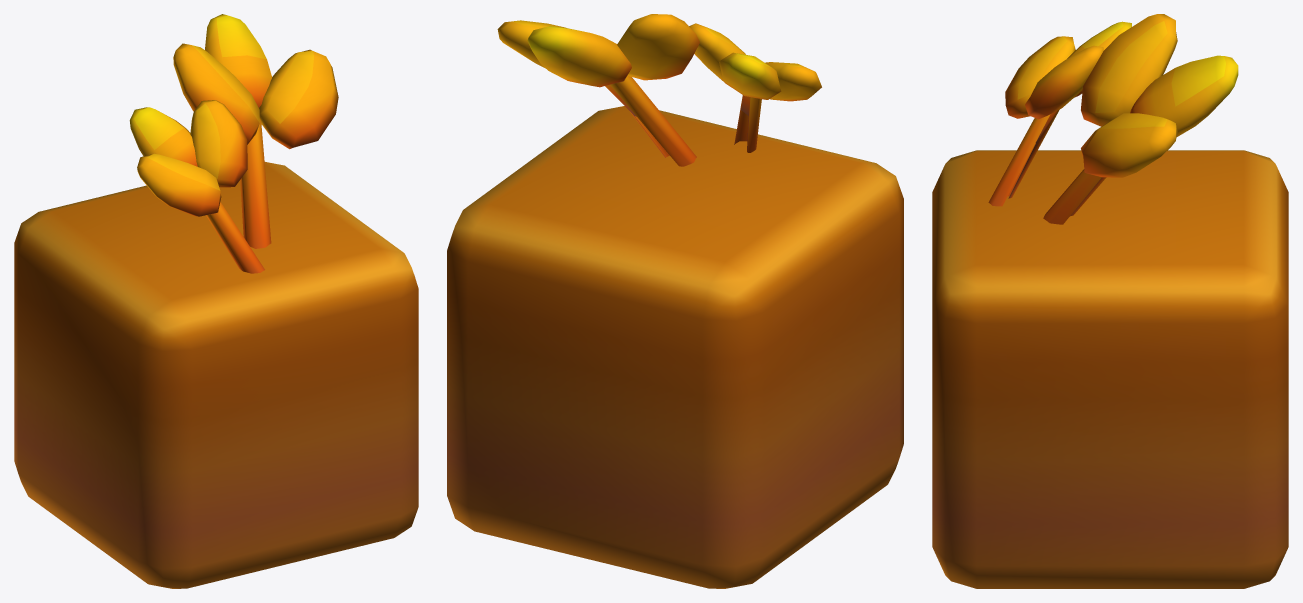
File: wheat_block_1.fbx
The picture shows the model from 3 angles, left to right: view 1: azimuth 30°, elevation 25°; view 2: azimuth 150°, elevation 25°; view 3: azimuth 270°, elevation 25°; orthographic projection. The views are drawn at different scales.
Visible parts, largest first — view 1: block_wheat.001; view 2: block_wheat.001; view 3: block_wheat.001.
Boxes of the visible parts, x1,y1,x2,y2 form: block_wheat.001: (14,14,418,588); block_wheat.001: (447,14,903,588); block_wheat.001: (932,14,1288,588).
Size of the model in its own units: 11491 by 18172 by 11491.
